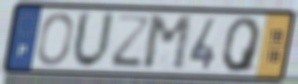4: (186, 16, 218, 73)
M: (141, 14, 194, 73)
O: (35, 11, 76, 68)
Q: (221, 15, 263, 75)
U: (70, 9, 117, 72)
Z: (108, 13, 153, 71)
